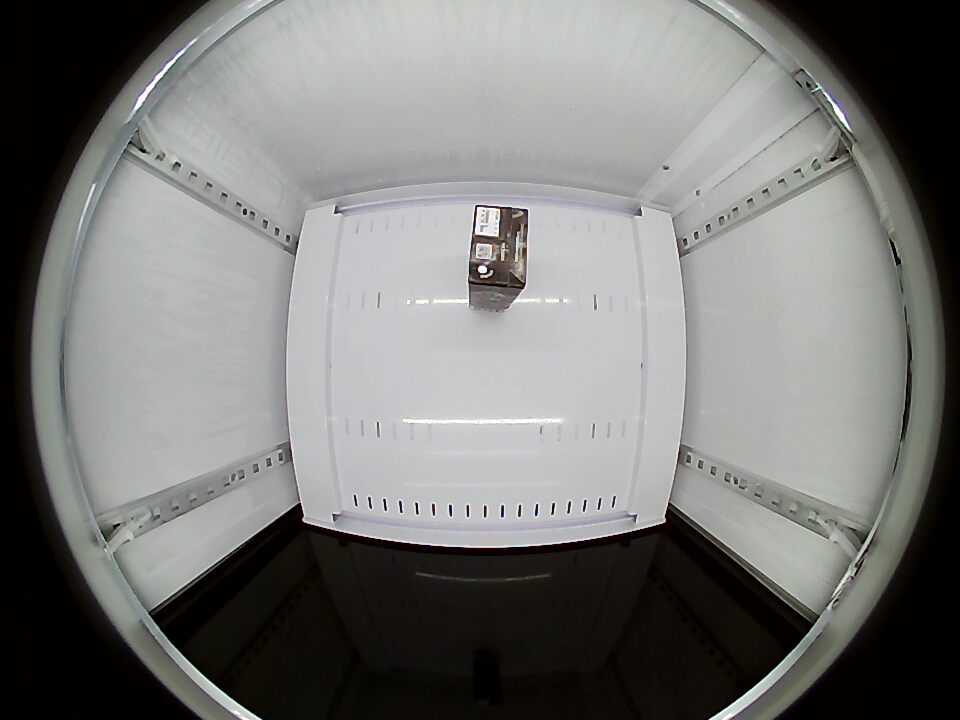weitanai2: (469, 206, 527, 297)
